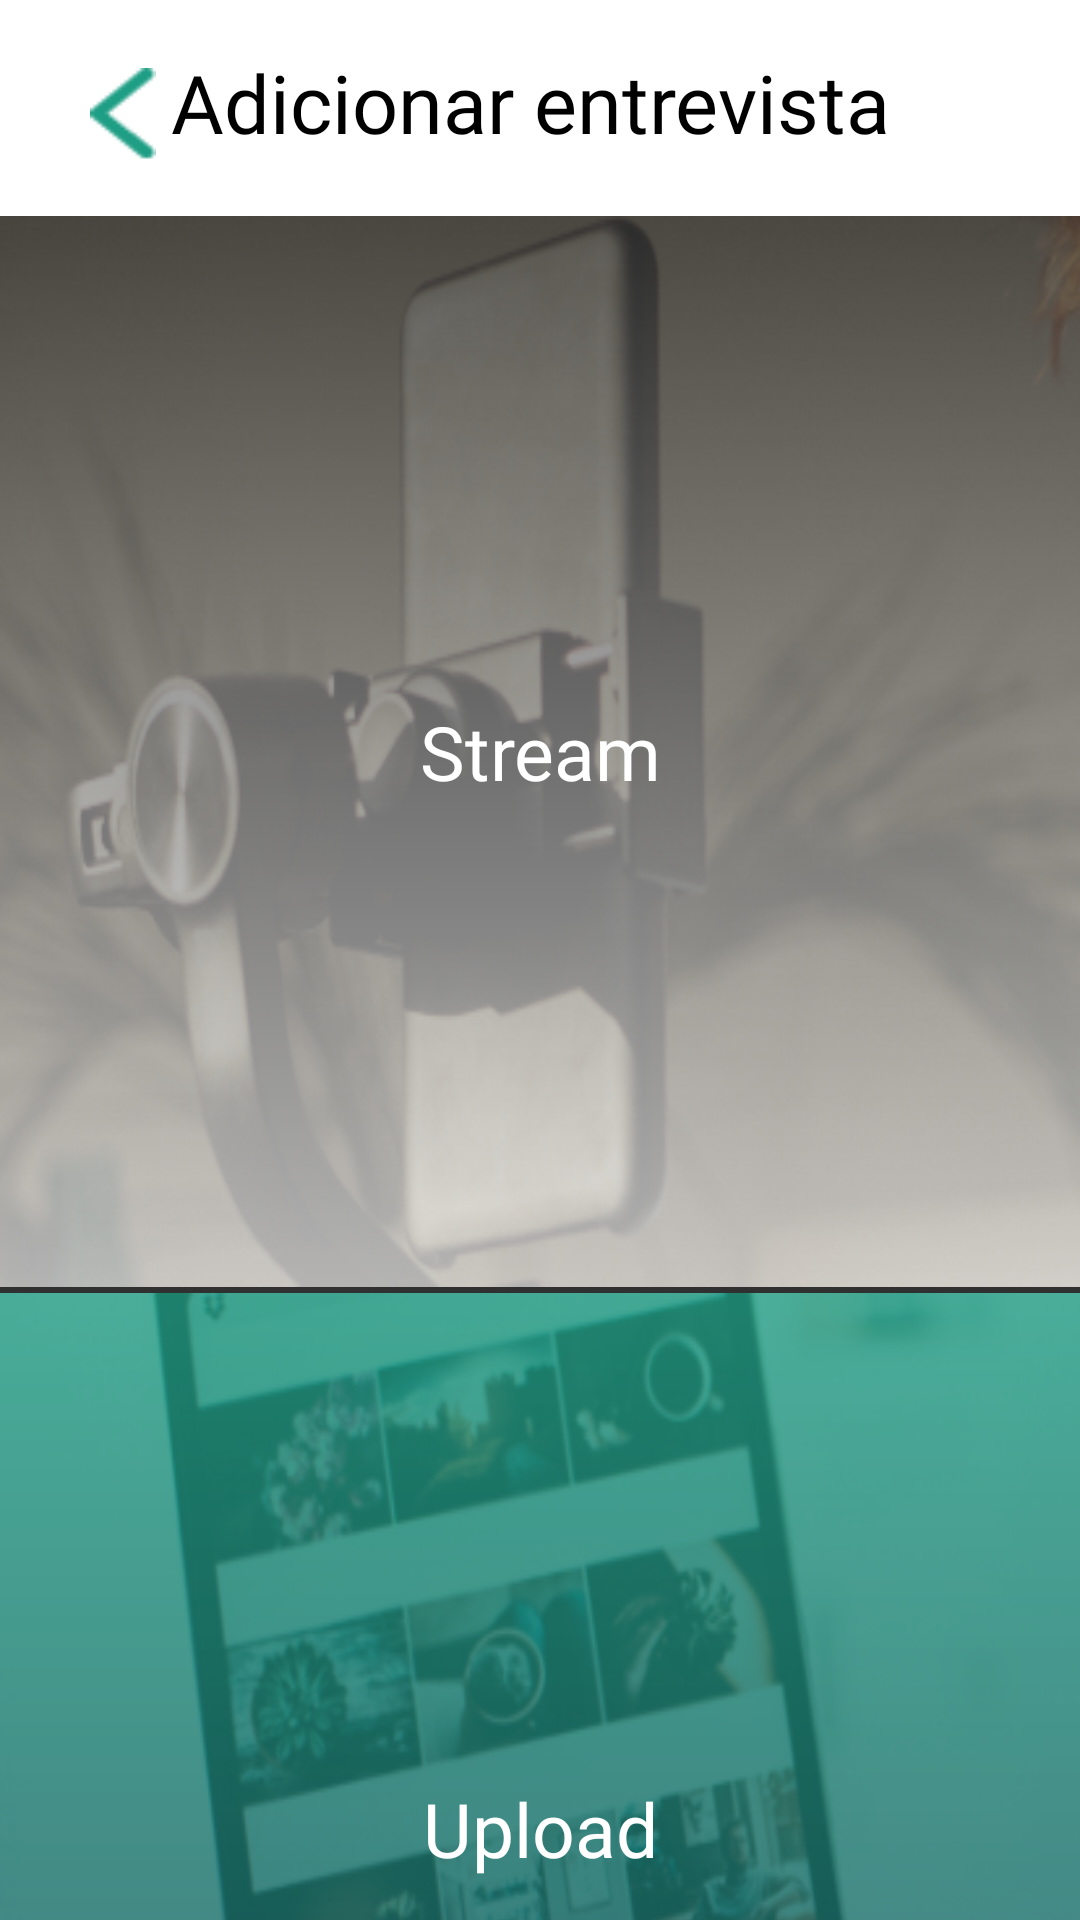

Icon bounding boxes for this 1080px x 1920px phone screenshot, format Rect(x1, y1, x2, y2):
back arrow: Rect(90, 68, 156, 159)
